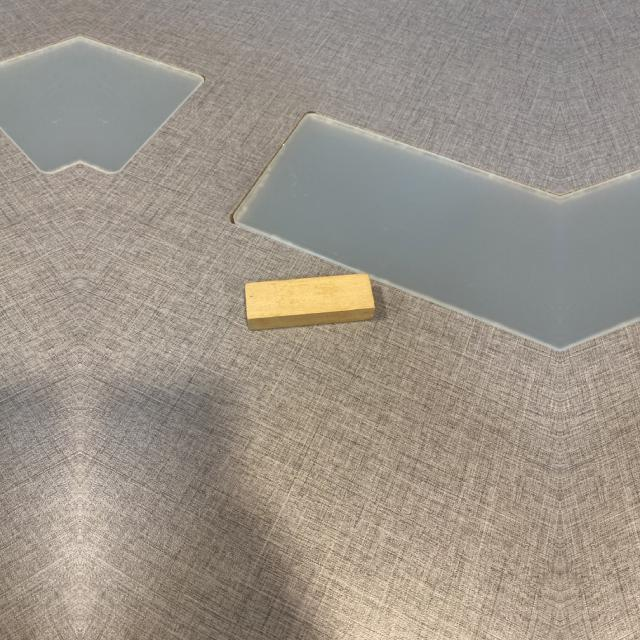jenga: (244, 272, 376, 334)
